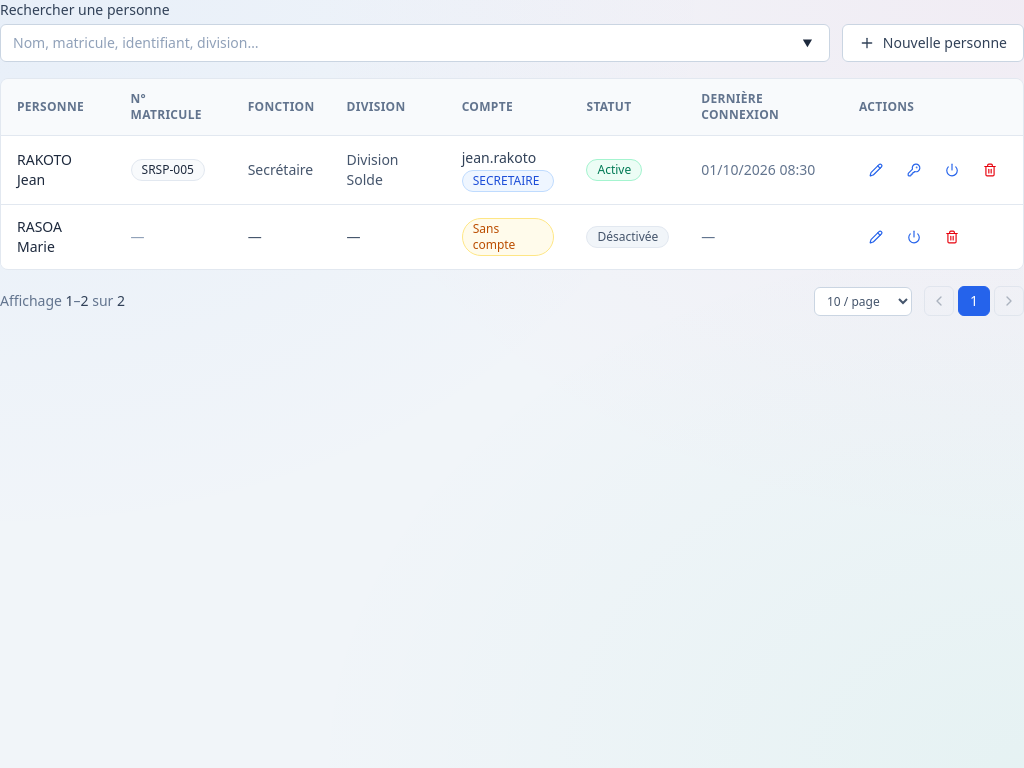
Test: Personnel — le formulaire › crée par défaut la personne et son compte
Check: the text "RAKOTO Jean" is shown, box [17, 150, 72, 189]
Click the button "Nouvelle personne" at {"x": 933, "y": 43}, box [842, 24, 1023, 62]
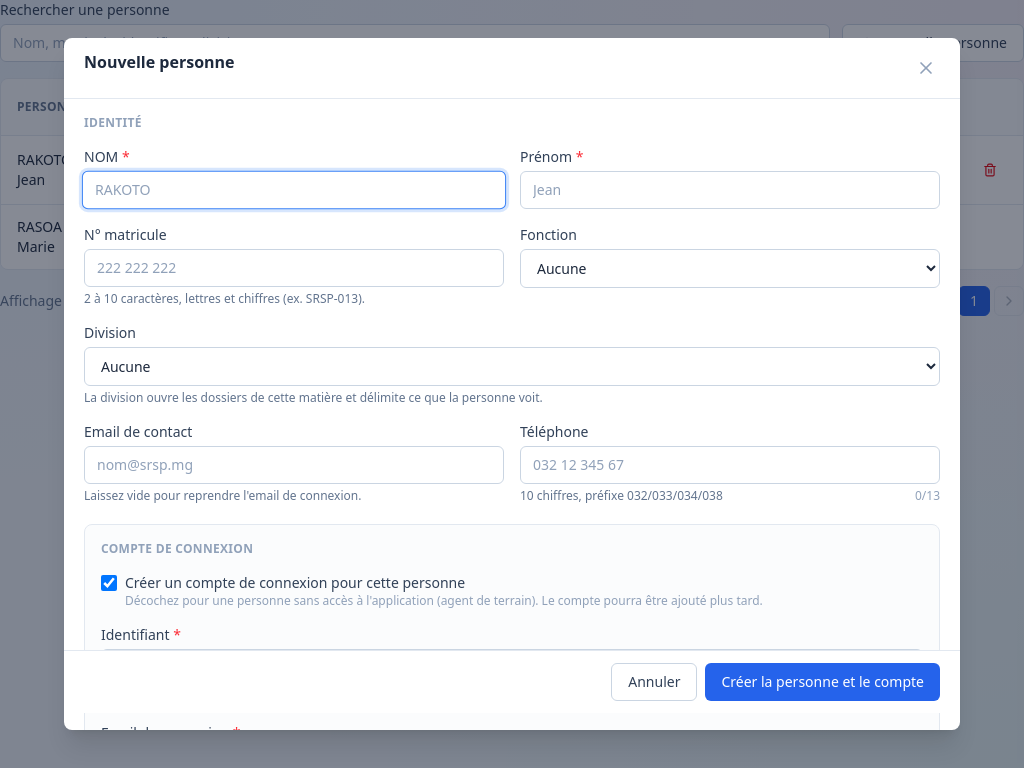
Check: the field labelled "Identifiant *" is shown, box [101, 649, 923, 687]
Check: the button "Créer la personne et le compte" is shown, box [705, 664, 940, 702]
